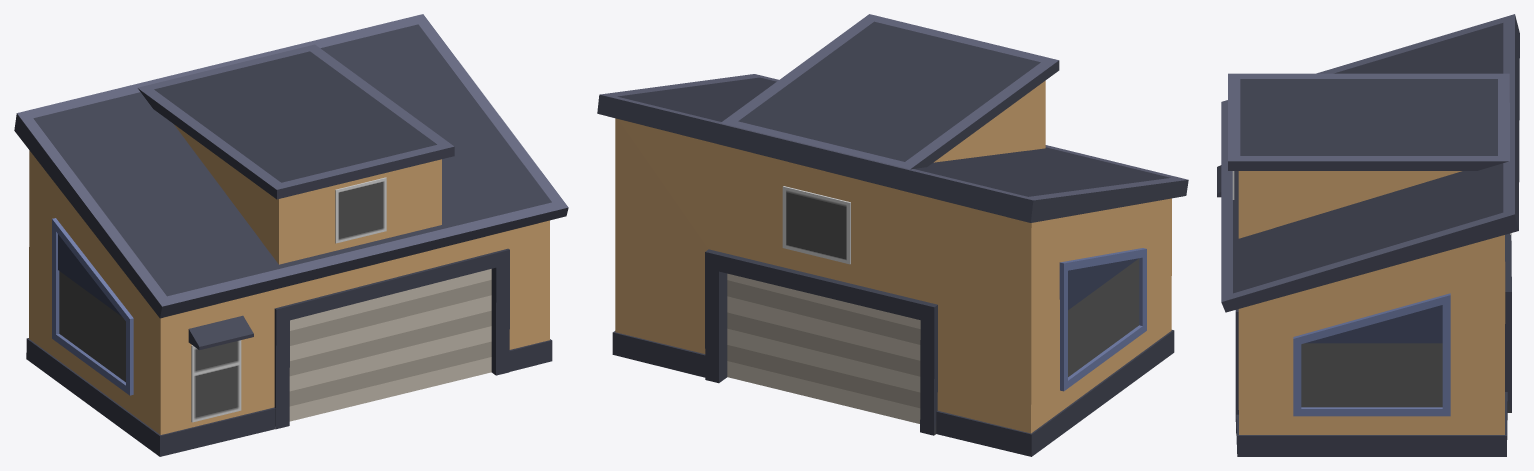
File: garage01_color01.fbx
The picture shows the model from 3 angles, left to right: view 1: azimuth 30°, elevation 25°; view 2: azimuth 150°, elevation 25°; view 3: azimuth 270°, elevation 25°; orthographic projection. The views are drawn at different scales.
Parts seen in each view (by area): view 1: garage01_color01; view 2: garage01_color01; view 3: garage01_color01.
Part boxes in pixels (left/top/right/bottom): garage01_color01: left=14, top=14, right=568, bottom=456; garage01_color01: left=597, top=14, right=1188, bottom=456; garage01_color01: left=1217, top=14, right=1519, bottom=456.
Size of the model in its own units: 997 by 573 by 637.
